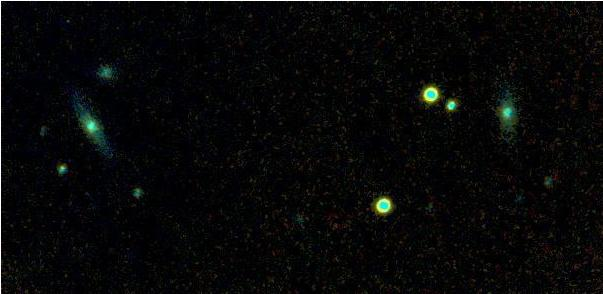star: (49, 8, 79, 38)
